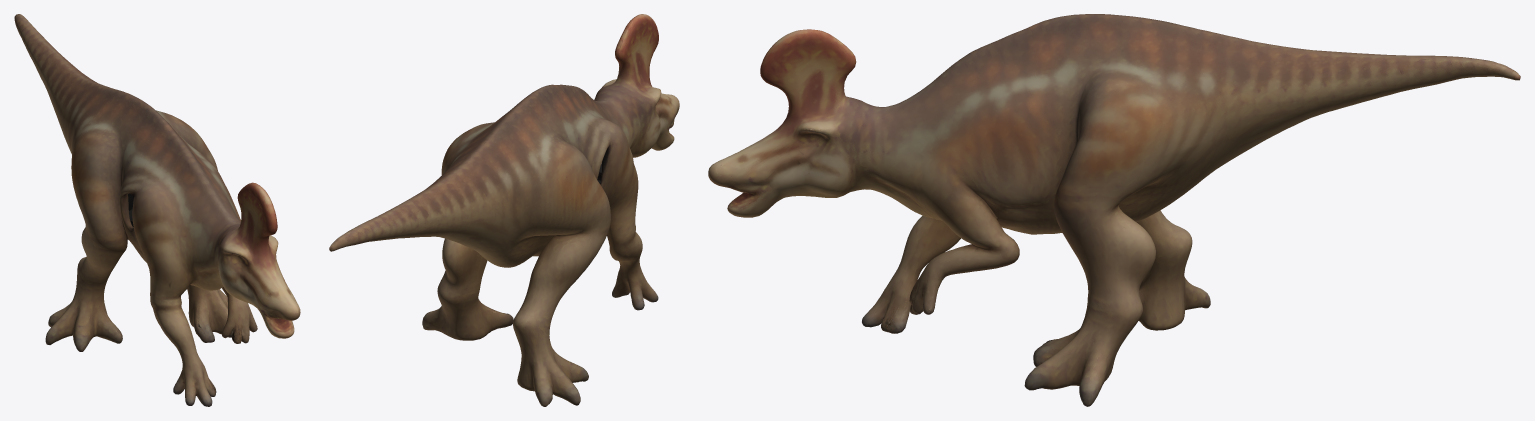
3 views of the same model, side by side, from view 1: azimuth 30°, elevation 25°; view 2: azimuth 150°, elevation 25°; view 3: azimuth 270°, elevation 25° (orthographic). The views are drawn at different scales.
Parts seen in each view (by area): view 1: world; view 2: world; view 3: world.
Boxes of the visible parts, x1=… form: world: x1=14, y1=14, x2=300, y2=406; world: x1=329, y1=14, x2=679, y2=406; world: x1=708, y1=14, x2=1520, y2=406.
Size of the model in its own units: 2.85 by 3.87 by 8.5.
1 material, 1 textured.
